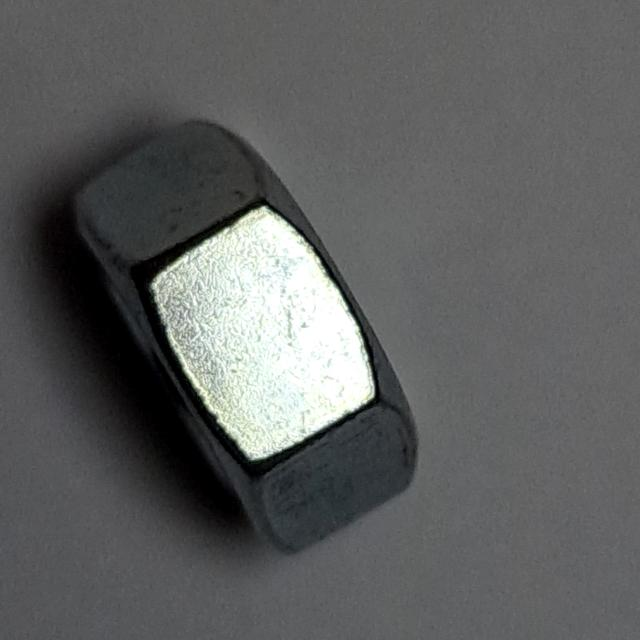Side_Excellent: (59, 109, 432, 564)
